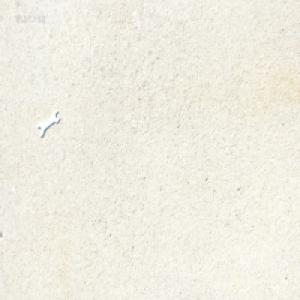Wrench: (36, 107, 59, 139)
